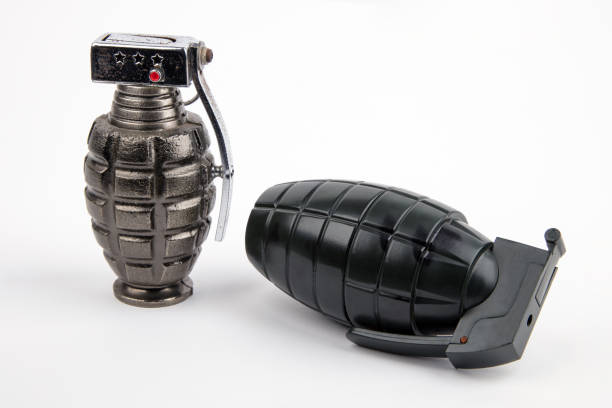e1: (244, 177, 566, 371), (79, 68, 232, 321)
